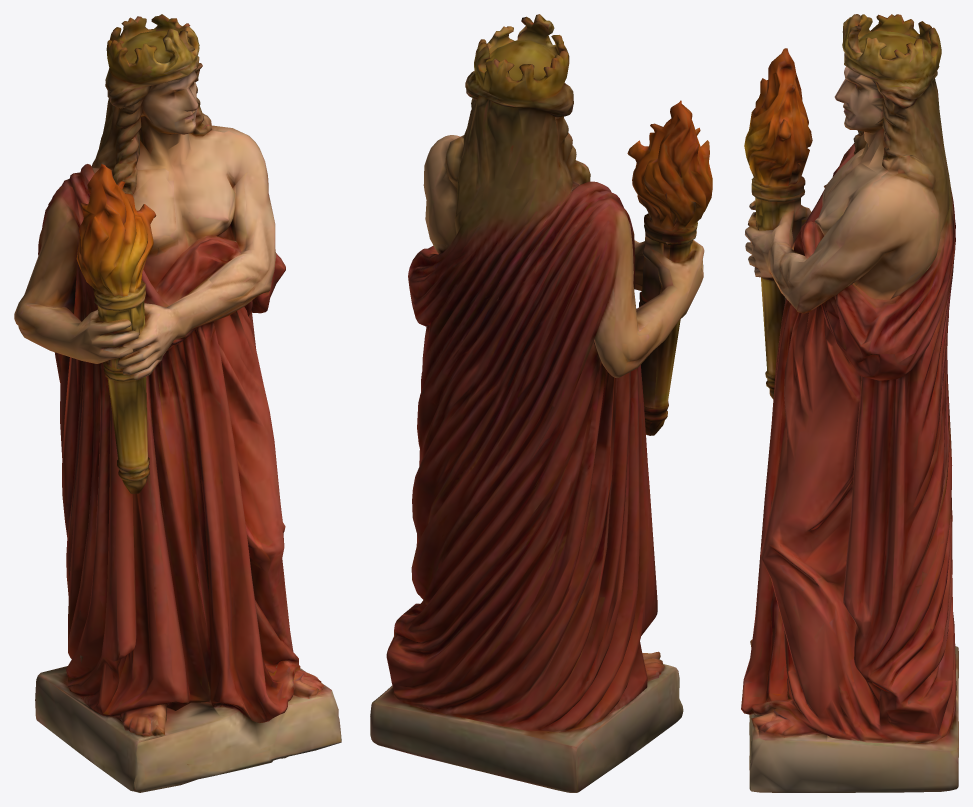
Rendered from prometheus.lean.glb.
3 views of the same model, side by side, from view 1: azimuth 30°, elevation 25°; view 2: azimuth 150°, elevation 25°; view 3: azimuth 270°, elevation 25° (orthographic). The views are drawn at different scales.
Visible parts, largest first — view 1: node_0; view 2: node_0; view 3: node_0.
Part boxes in pixels (<box>): node_0: <box>14,14,341,792</box>; node_0: <box>370,14,712,792</box>; node_0: <box>741,14,958,792</box>.
Bounding box in the file's own units: 0.4102 × 1.11 × 0.3024.
Materials: 1 (1 with a texture image).
